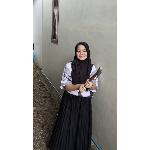Kapak: (77, 66, 105, 96)
